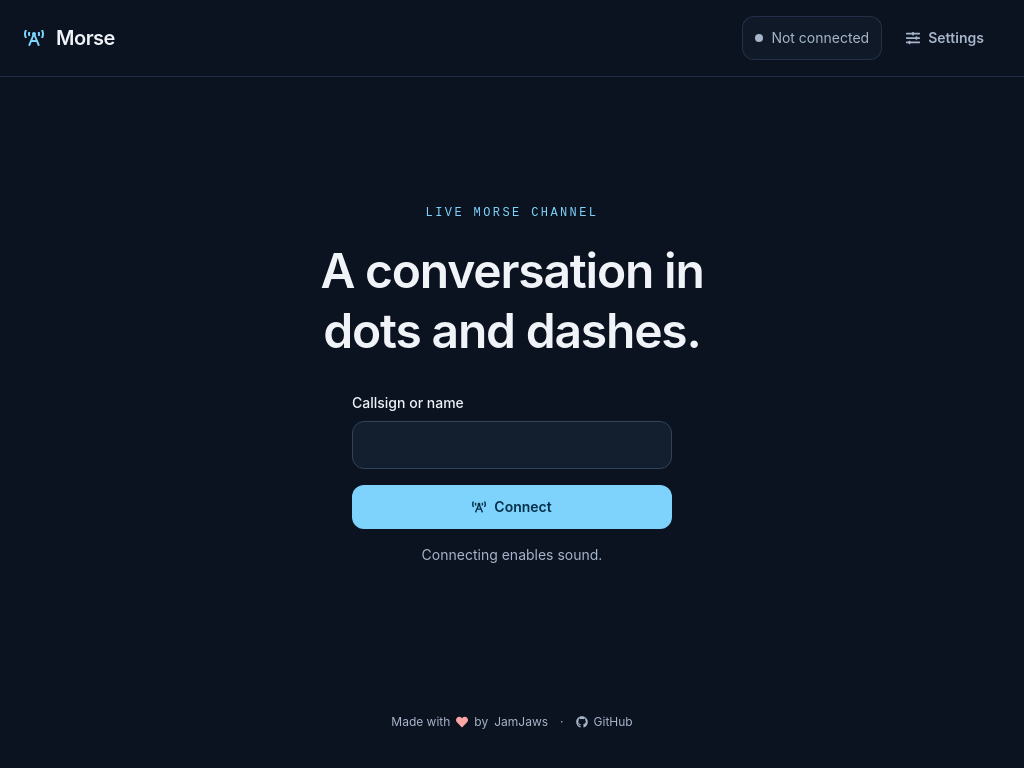
uses a name saved in pre-join settings when no welcome draft has been entered
This screenshot has width=1024, height=768.
Step 1. Click the button "Settings" → (945, 38), box x1=890 y1=16 x2=1000 y2=60
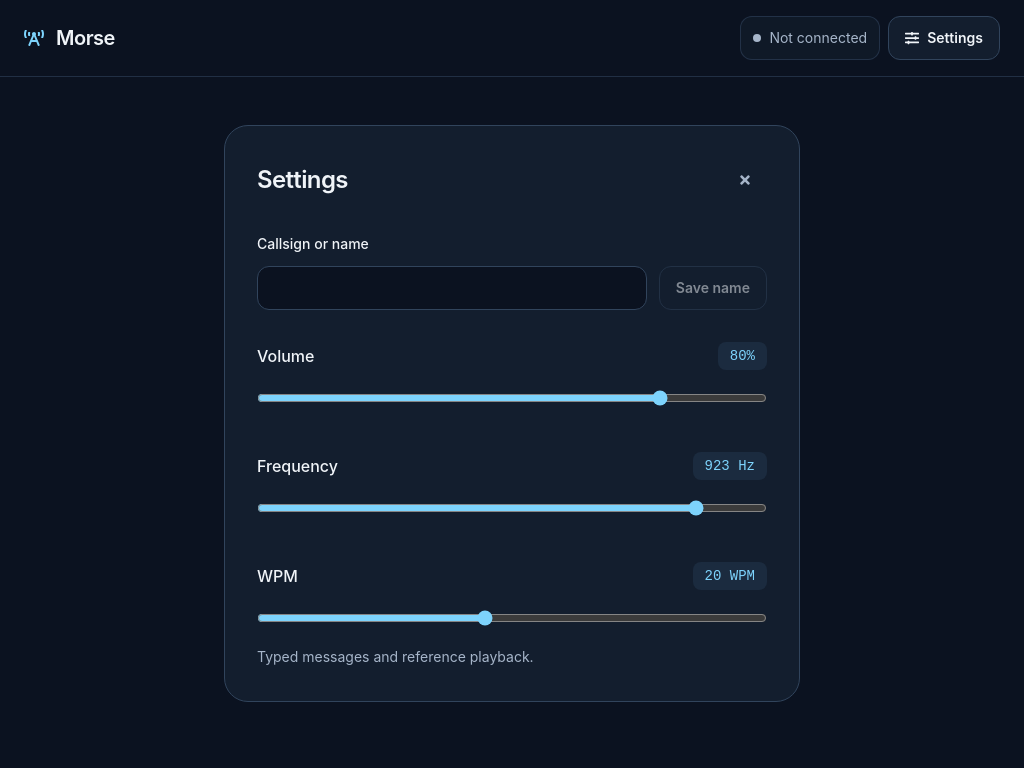
Step 2. Type "Sam" into the field labelled "Callsign or name" → (452, 288), box x1=257 y1=266 x2=647 y2=310
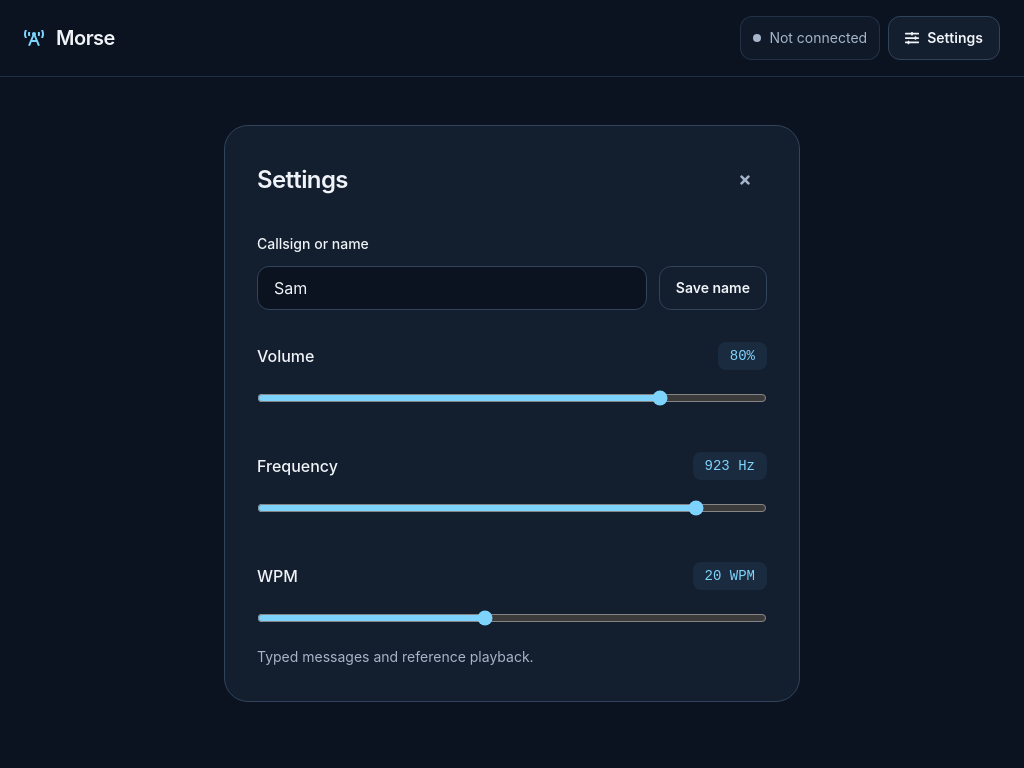
Step 3. Click the button "Save name" → (713, 288), box x1=659 y1=266 x2=767 y2=310
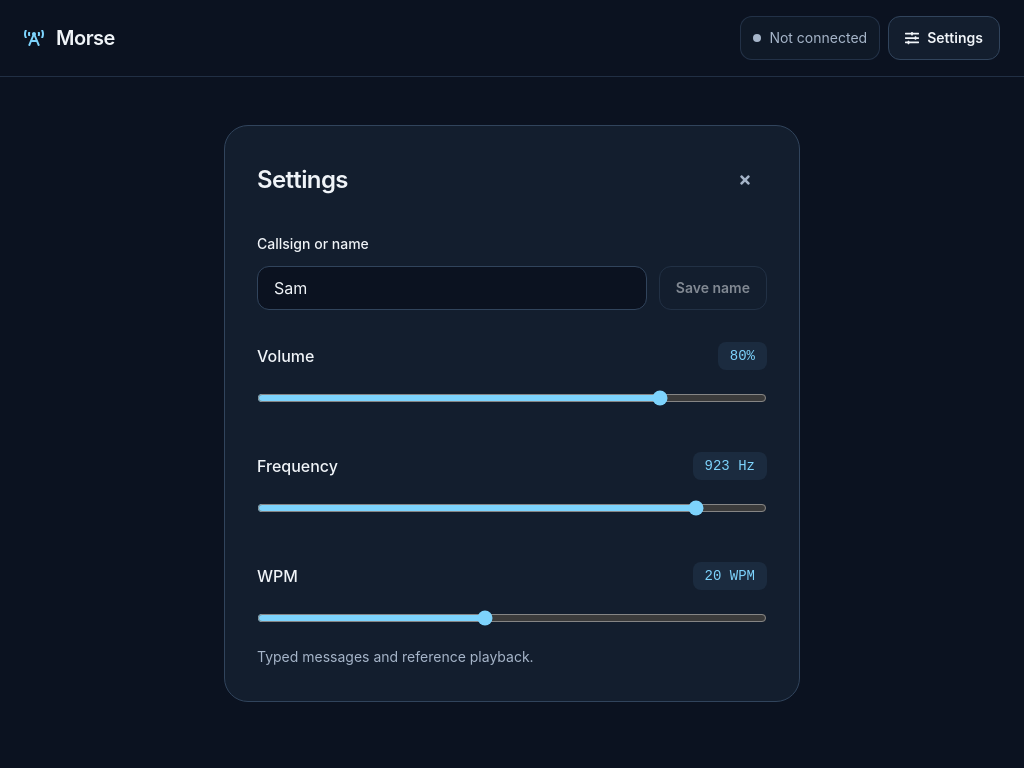
Step 4. Click the button named "Close settings" → (745, 180), box x1=723 y1=158 x2=767 y2=202
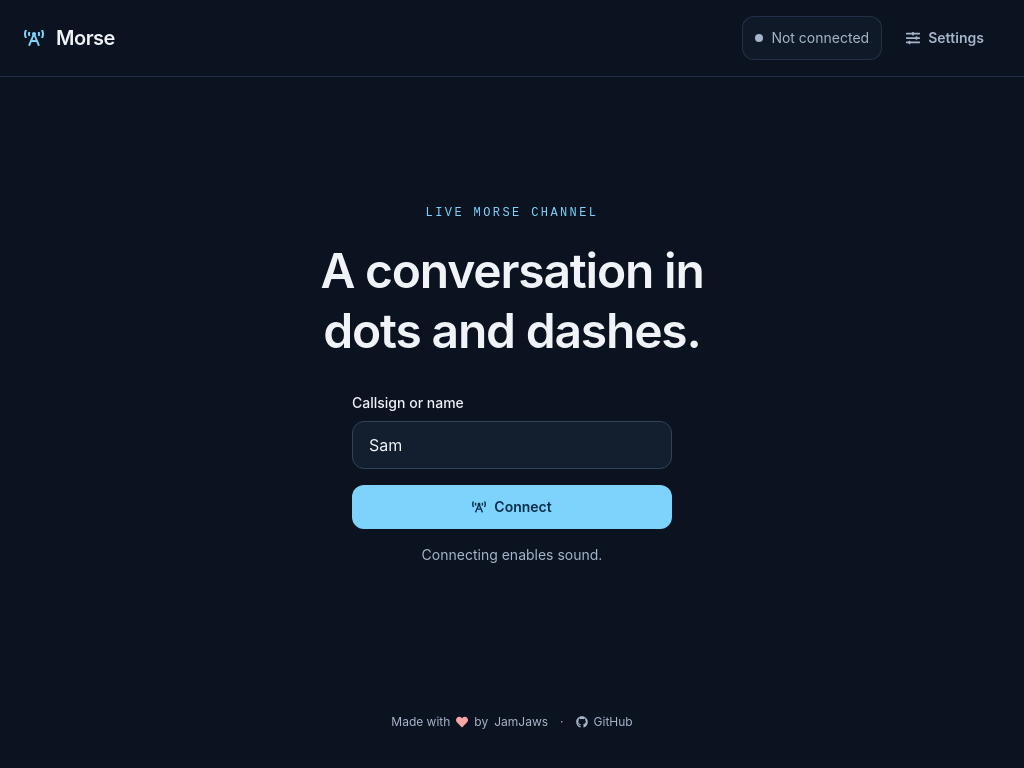
Check: the field labelled "Callsign or name" holds "Sam", box x1=352 y1=420 x2=672 y2=468
